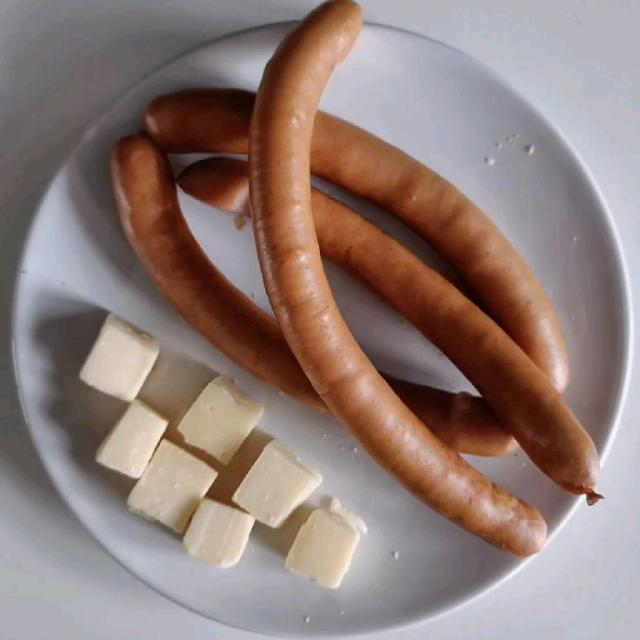cheese: (128, 439, 217, 532), (232, 439, 322, 527), (177, 376, 263, 463), (79, 313, 157, 402), (287, 509, 359, 588), (96, 399, 168, 477), (183, 498, 254, 567)
